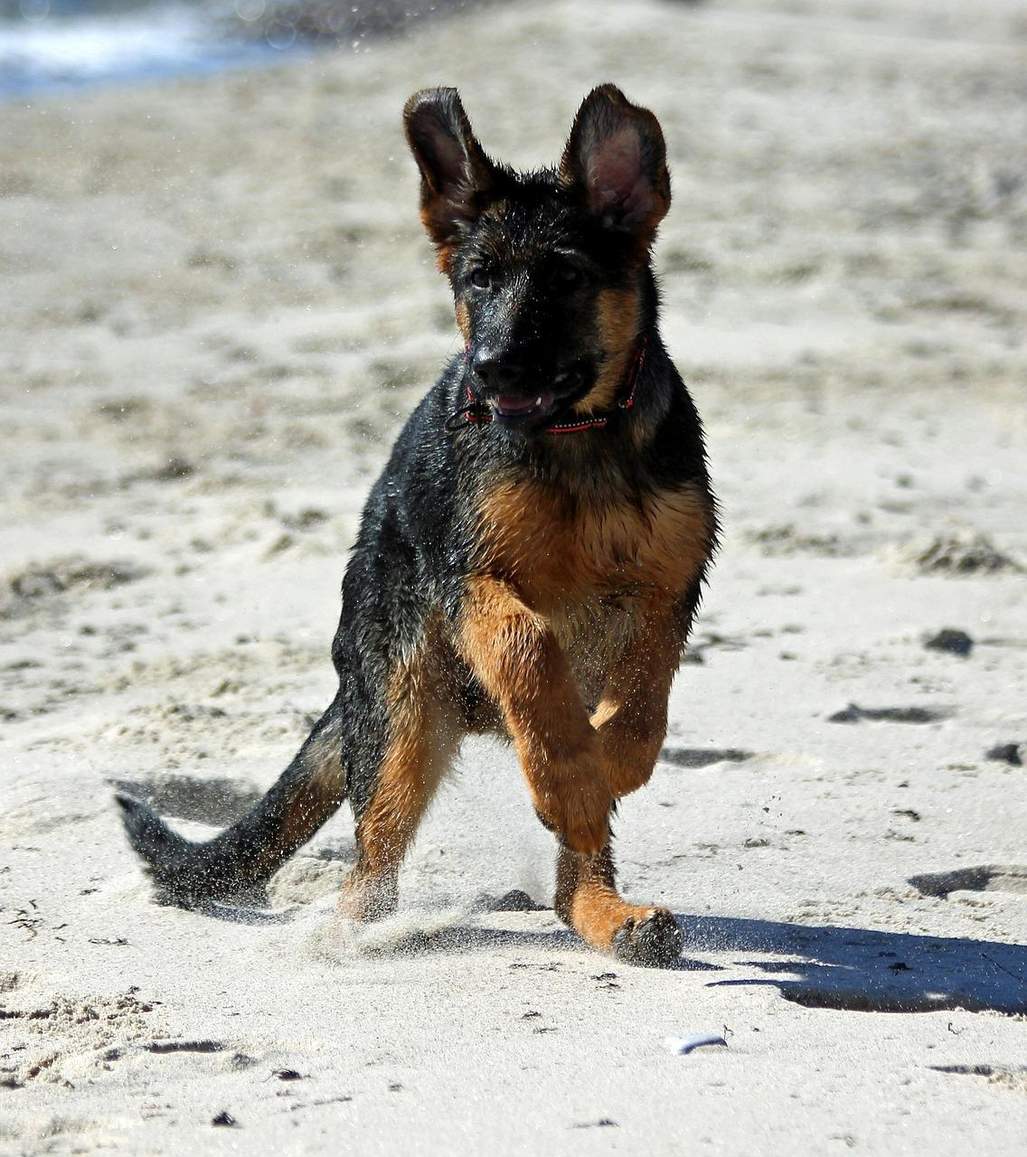german_shepherd: (387, 121, 692, 441)
